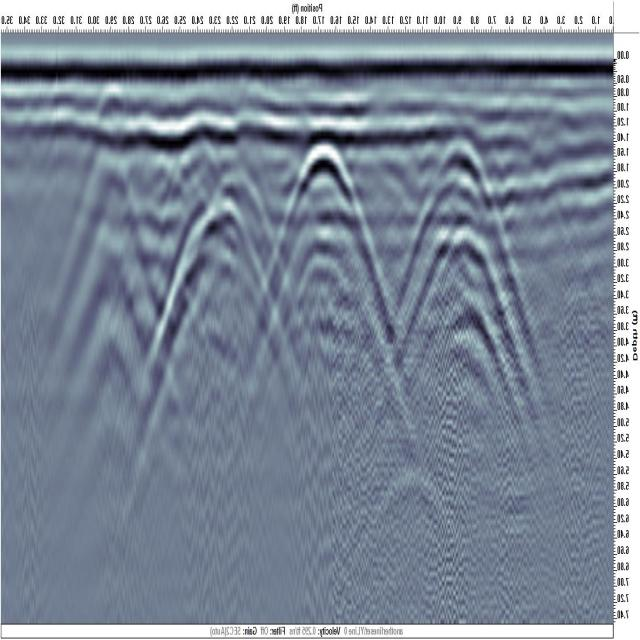hyperbola: (398, 134, 524, 376), (271, 133, 381, 344)
